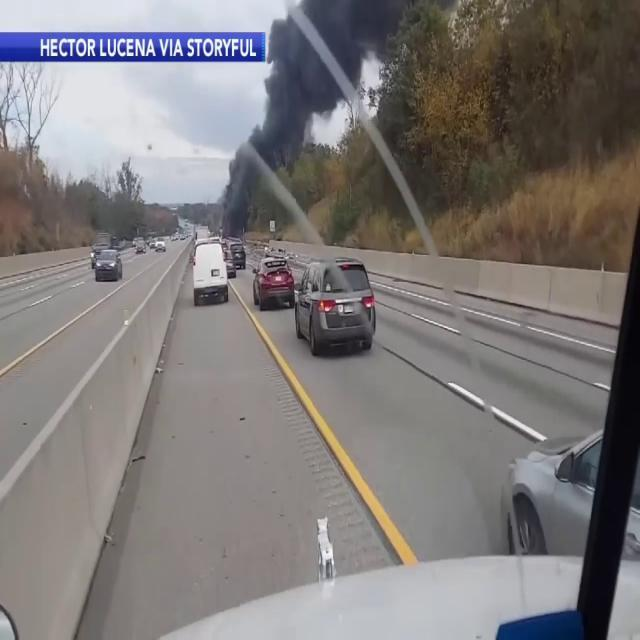Smoke: (222, 0, 631, 239), (221, 3, 328, 237)
